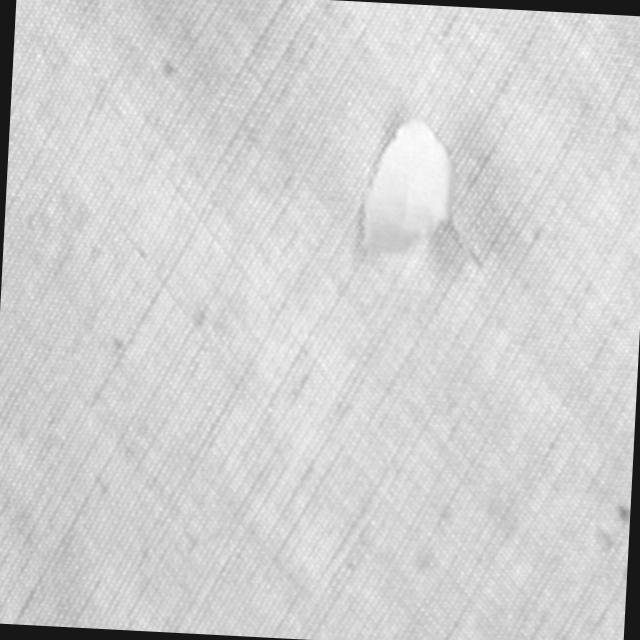objects: (356, 112, 460, 263)
